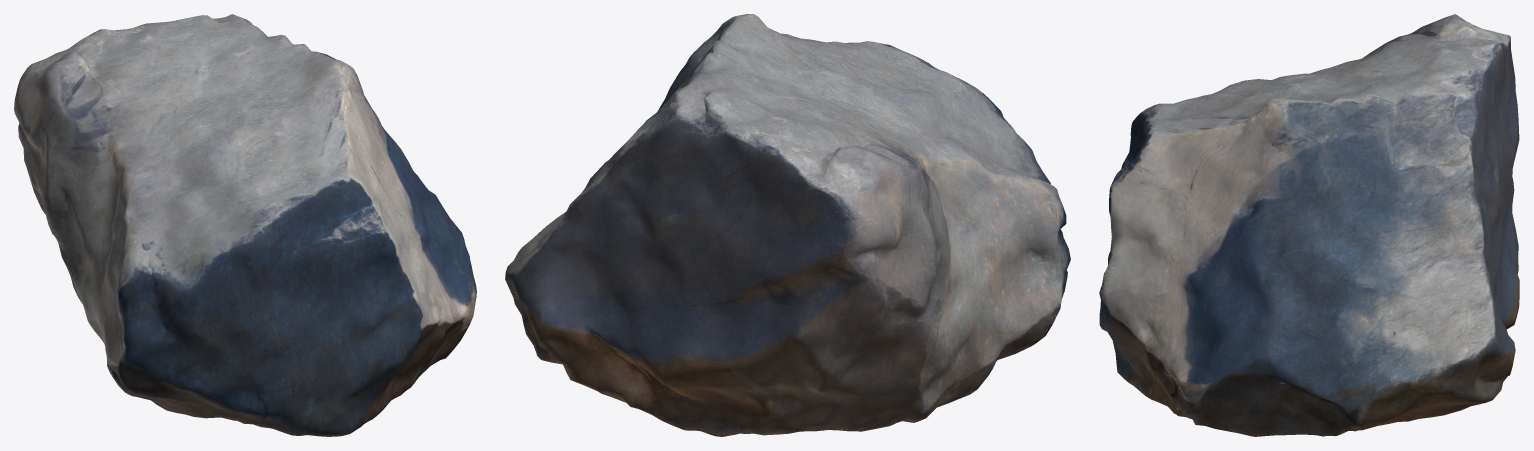
Rendered from Meshy_AI_iron_rock_0224030039_texture.glb.
The picture shows the model from 3 angles, left to right: view 1: azimuth 30°, elevation 25°; view 2: azimuth 150°, elevation 25°; view 3: azimuth 270°, elevation 25°; orthographic projection. The views are drawn at different scales.
Bounding box in the file's own units: 2 × 1.49 × 1.75.
1 material, 1 textured.
